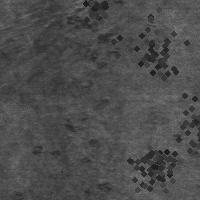rolled-in_scale: (99, 0, 200, 98), (152, 83, 200, 169), (119, 133, 183, 197), (25, 113, 91, 155), (67, 0, 119, 30), (62, 4, 96, 32)
